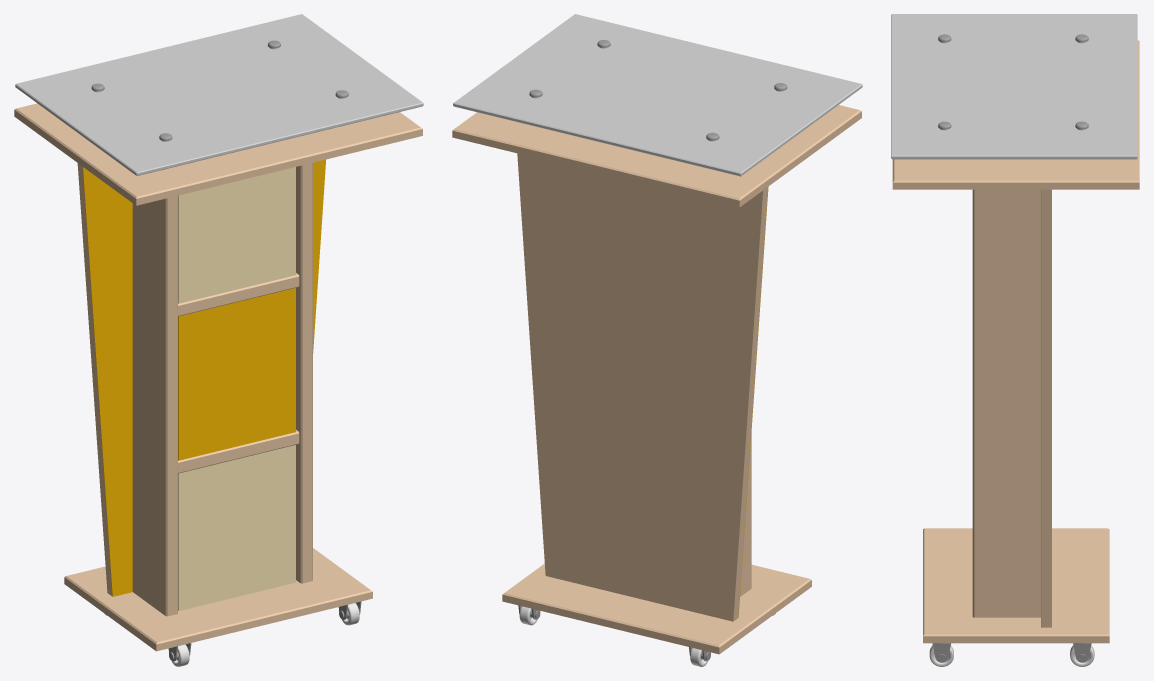
3 views of the same model, side by side, from view 1: azimuth 30°, elevation 25°; view 2: azimuth 150°, elevation 25°; view 3: azimuth 270°, elevation 25° (orthographic).
Parts seen in each view (by area): view 1: Dais_01, Dais_03, Dais_02, Dais_04, Dais_15; view 2: Dais_01, Dais_03; view 3: Dais_01, Dais_03, Dais_15, Dais_06.
Part boxes in pixels (bbox=[...]): Dais_01: bbox=[14, 103, 422, 651]; Dais_03: bbox=[15, 14, 423, 175]; Dais_02: bbox=[178, 167, 295, 610]; Dais_04: bbox=[178, 288, 295, 460]; Dais_15: bbox=[82, 159, 326, 596]; Dais_01: bbox=[452, 105, 861, 654]; Dais_03: bbox=[453, 14, 862, 176]; Dais_01: bbox=[892, 40, 1139, 643]; Dais_03: bbox=[891, 14, 1137, 159]; Dais_15: bbox=[1041, 189, 1041, 627]; Dais_06: bbox=[938, 34, 1088, 129].
Size of the model in its own units: 54.3 by 95.98 by 40.15.
